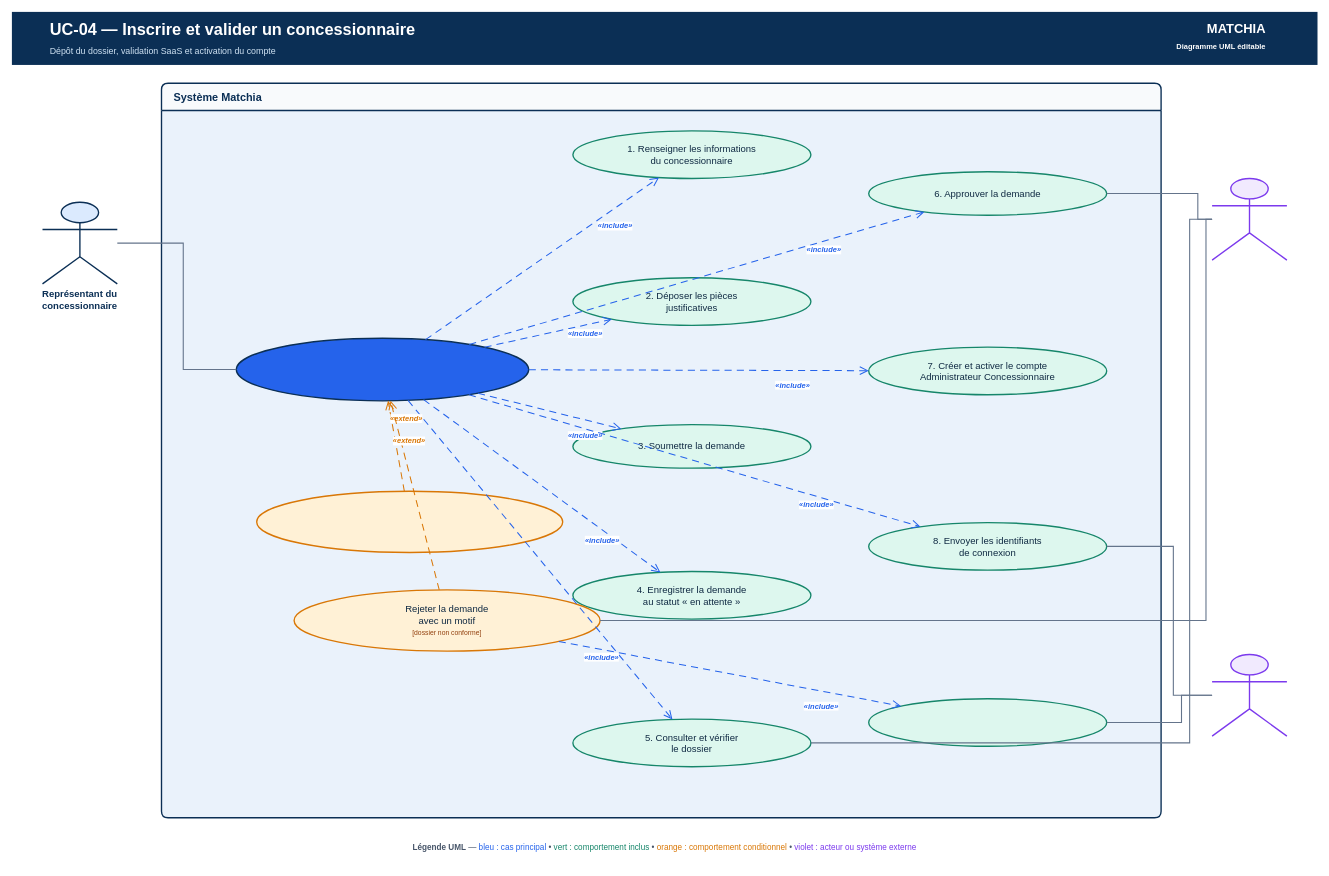
This 1329x876 diagram has some shape labels left out. The centre of each missing label's shape, as x and y in pixels:
"Administrateur SaaS" goes at (1249,218).
"Corriger ou compléter le dossier [information ou document manquant]" goes at (409,521).
"Inscrire et valider un concessionnaire" goes at (382,369).
"Notifier le rejet par e-mail" goes at (987,722).
"Service e-mail" goes at (1249,694).
